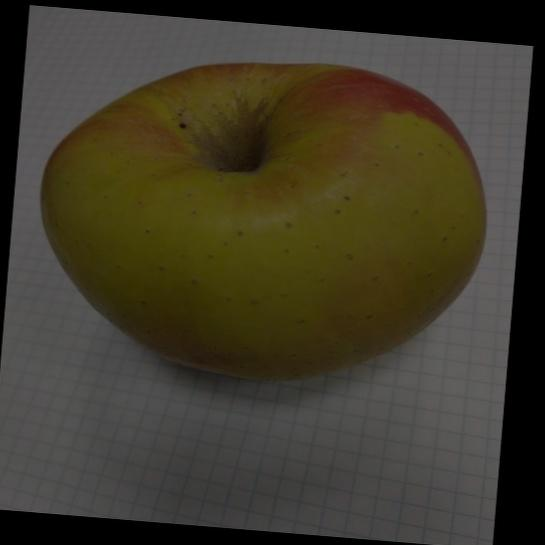green apple: (49, 59, 492, 396)
